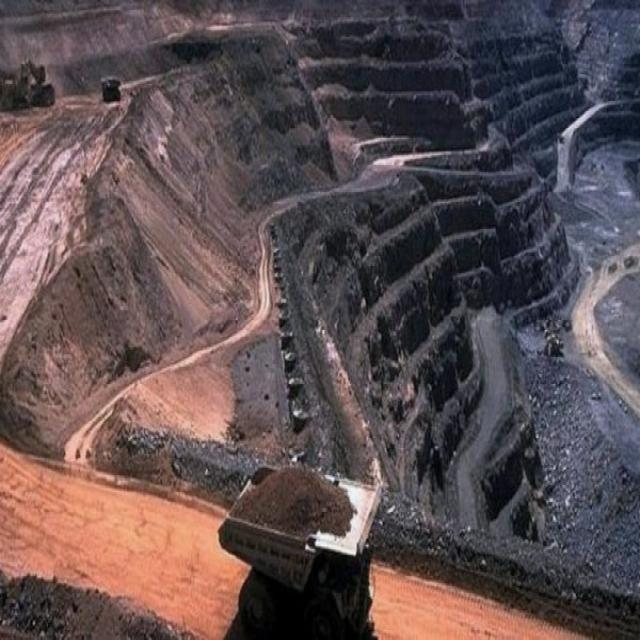dump_truck: (227, 458, 387, 633), (99, 74, 122, 103)
excavator: (5, 55, 56, 107)
